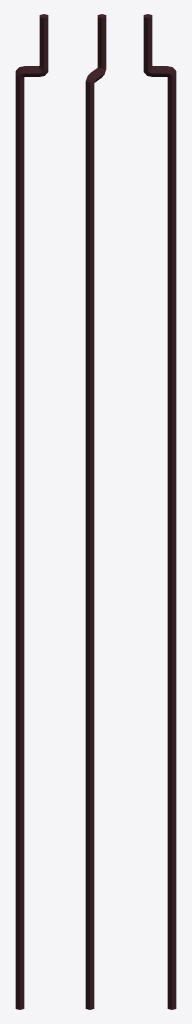
Rendered from securitycam_pipe.fbx.
3 renders of one model, left to right at view 1: azimuth 90°, elevation 25°; view 2: azimuth 150°, elevation 25°; view 3: azimuth 270°, elevation 25°, orthographic.
Visible parts, largest first — view 1: polySurface1012; view 2: polySurface1012; view 3: polySurface1012.
Boxes of the visible parts, x1,y1,x2,y2 form: polySurface1012: (15, 14, 48, 1009); polySurface1012: (85, 14, 106, 1009); polySurface1012: (143, 14, 176, 1009).
Size of the model in its own units: 0.233 by 25.09 by 0.7546.
1 material, 1 textured.
